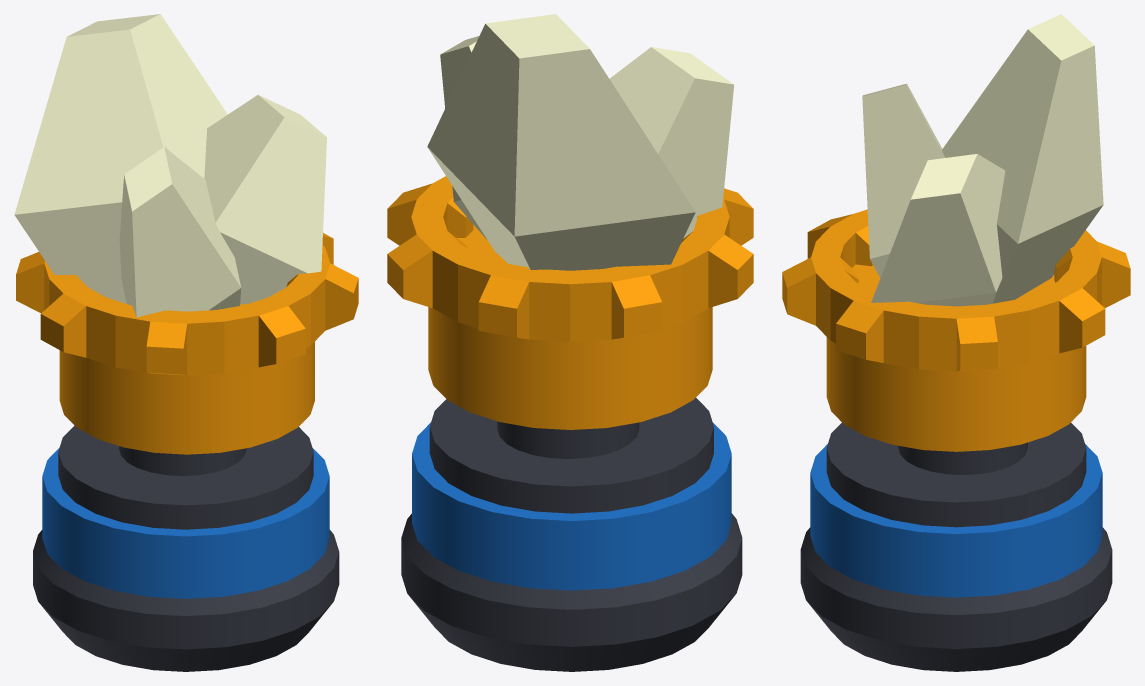
File: tower_charming_lazurite.obj
The picture shows the model from 3 angles, left to right: view 1: azimuth 30°, elevation 25°; view 2: azimuth 150°, elevation 25°; view 3: azimuth 270°, elevation 25°; orthographic projection. The views are drawn at different scales.
Parts seen in each view (by area): view 1: mergedBlocks; view 2: mergedBlocks; view 3: mergedBlocks.
Part boxes in pixels (box(x1,y1,x2,y2)): mergedBlocks: box(14, 14, 358, 671); mergedBlocks: box(387, 14, 753, 671); mergedBlocks: box(782, 14, 1130, 671).
Size of the model in its own units: 1.07 by 1.96 by 1.07.
